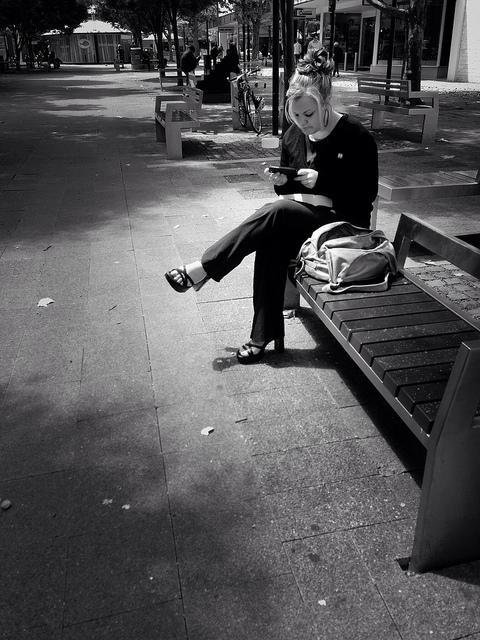bicycle: (225, 67, 262, 134)
